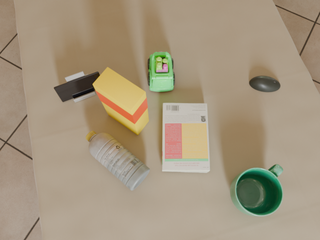book: (162, 103, 210, 172)
bottle: (86, 131, 150, 190)
box: (93, 67, 149, 135)
cup: (230, 164, 283, 216)
mouse: (249, 76, 280, 92)
phone: (54, 72, 100, 102)
toy_car: (148, 52, 175, 92)
